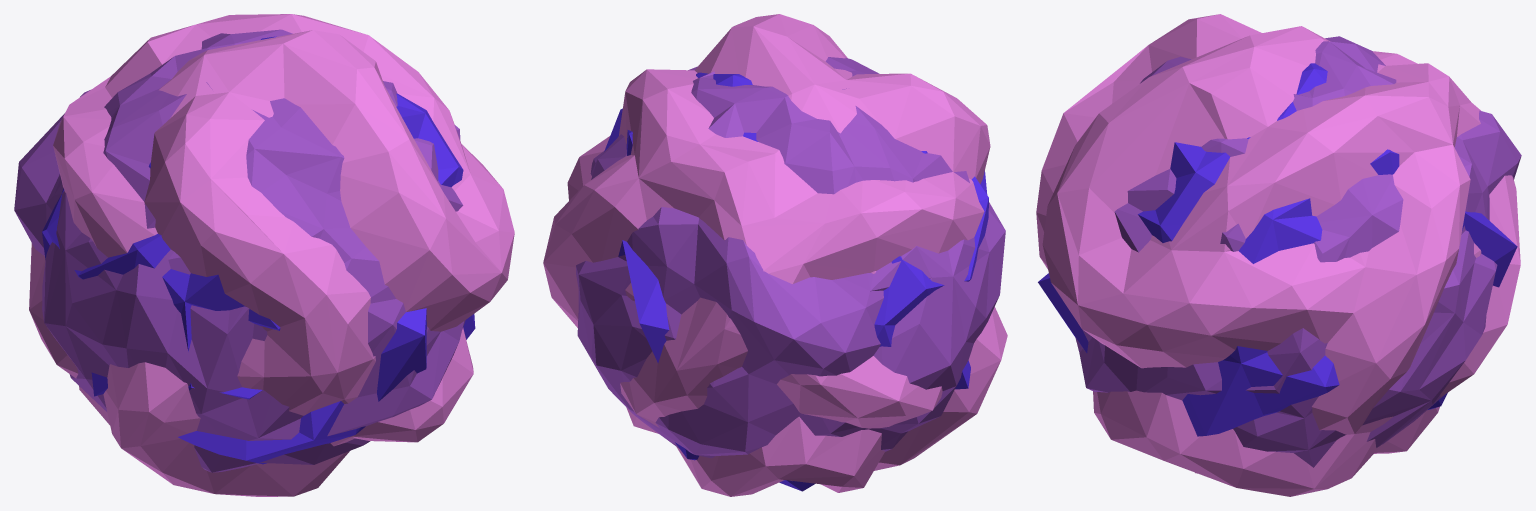
Rendered from gas_planet1.fbx.
3 renders of one model, left to right at view 1: azimuth 30°, elevation 25°; view 2: azimuth 150°, elevation 25°; view 3: azimuth 270°, elevation 25°, orthographic. The views are drawn at different scales.
Parts seen in each view (by area): view 1: gas_planet1; view 2: gas_planet1; view 3: gas_planet1.
Part boxes in pixels (x1,y1,x2,y2): gas_planet1: [14, 14, 514, 496]; gas_planet1: [543, 14, 1007, 496]; gas_planet1: [1036, 14, 1521, 496].
Size of the model in its own units: 223 by 232 by 229.
